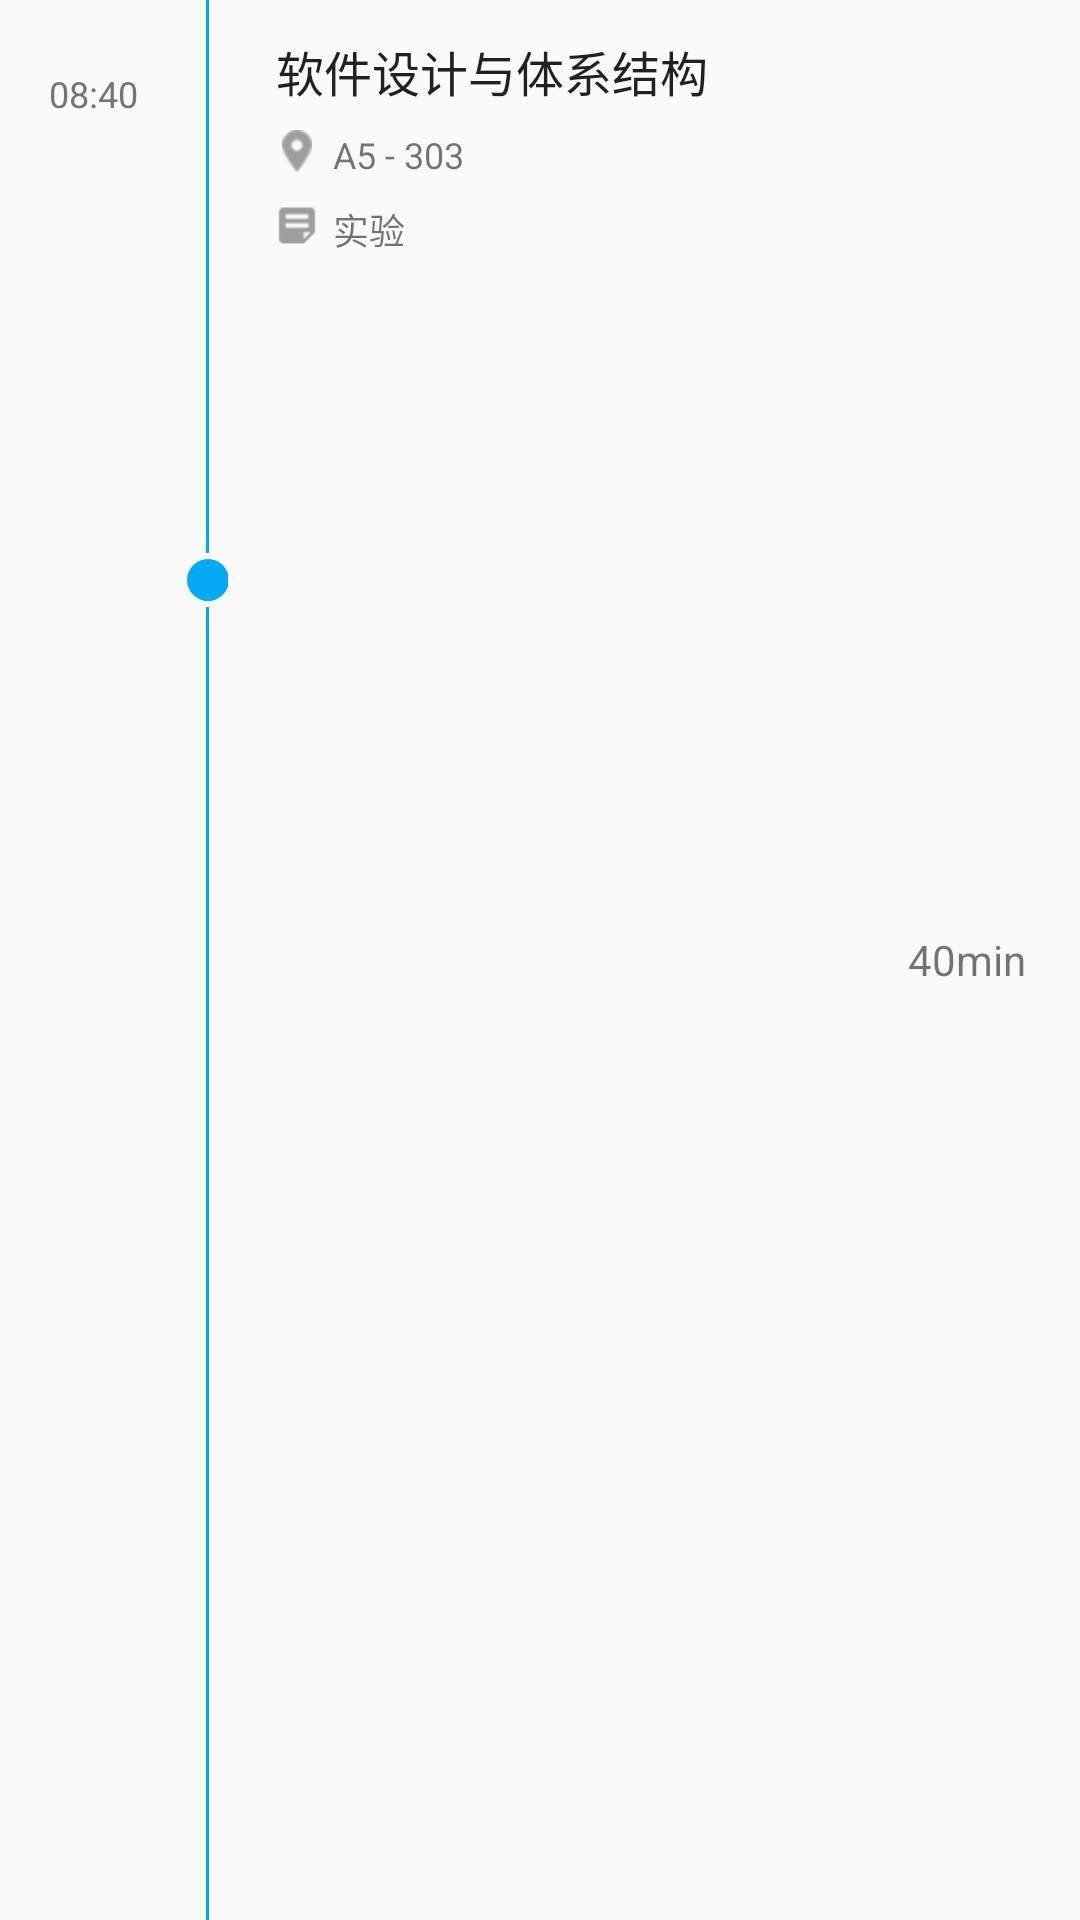

Icons on this 1080 x 1920 Android screen, each with the point to tap as (x=x, y=y):
location: (x=297, y=151)
note: (x=297, y=225)
